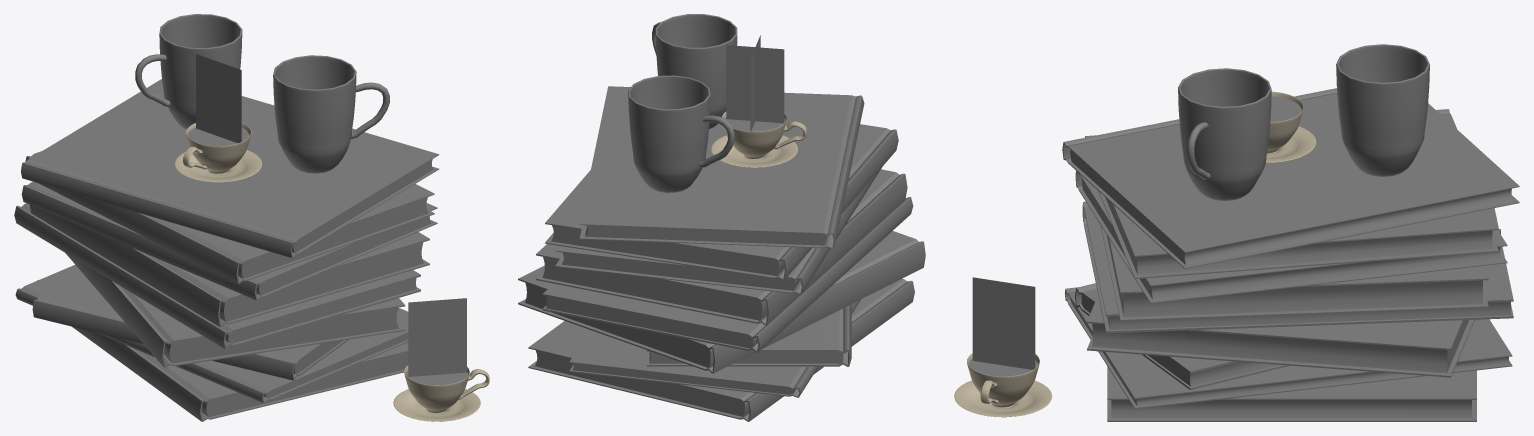
The model's file is Book.gltf.
3 views of the same model, side by side, from view 1: azimuth 30°, elevation 25°; view 2: azimuth 150°, elevation 25°; view 3: azimuth 270°, elevation 25° (orthographic). The views are drawn at different scales.
Parts seen in each view (by area): view 1: Line010, Line450, Line003, Line007, Line009, Line006, Line439, Line008, Line002, Line005, Line004, Plane031 (+18 smaller); view 2: Line010, Line439, Line003, Line005, Line009, Line007, Line004, Line450, Line002, Box006, Plane029, Box008 (+14 smaller); view 3: Line010, Line439, Line450, Box004, Box006, Line002, Line005, Box003, Box008, Line004, Box009, Plane032 (+16 smaller).
Boxes of the visible parts, x1,y1,x2,y2 form: Line010: [21, 79, 439, 257]; Line450: [273, 55, 356, 173]; Line003: [14, 203, 420, 349]; Line007: [29, 205, 429, 327]; Line009: [25, 151, 434, 283]; Line006: [32, 268, 349, 380]; Line439: [159, 14, 242, 129]; Line008: [21, 181, 437, 300]; Line002: [15, 265, 408, 403]; Line005: [65, 253, 405, 367]; Line004: [37, 280, 408, 421]; Plane031: [408, 298, 466, 376]; Line010: [579, 86, 864, 248]; Line439: [628, 75, 710, 192]; Line003: [542, 197, 913, 352]; Line005: [518, 231, 925, 373]; Line009: [545, 124, 898, 280]; Line007: [536, 169, 907, 325]; Line004: [528, 278, 914, 421]; Line450: [655, 14, 737, 129]; Line002: [569, 299, 860, 397]; Box006: [542, 257, 767, 320]; Plane029: [726, 45, 784, 123]; Box008: [551, 225, 784, 275]; Line010: [1062, 88, 1519, 268]; Line439: [1336, 44, 1429, 176]; Line450: [1178, 68, 1271, 200]; Box004: [1092, 320, 1468, 373]; Box006: [1107, 235, 1482, 317]; Line002: [1064, 287, 1512, 408]; Line005: [1087, 229, 1500, 377]; Box003: [1111, 400, 1471, 418]; Box008: [1105, 197, 1492, 274]; Line004: [1107, 366, 1476, 421]; Box009: [1070, 150, 1512, 264]; Plane032: [972, 277, 1035, 377].
Size of the model in its own units: 15.81 by 13.32 by 21.21.
